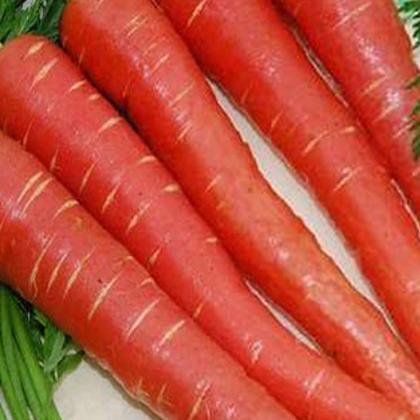carrot: (3, 14, 420, 420)
